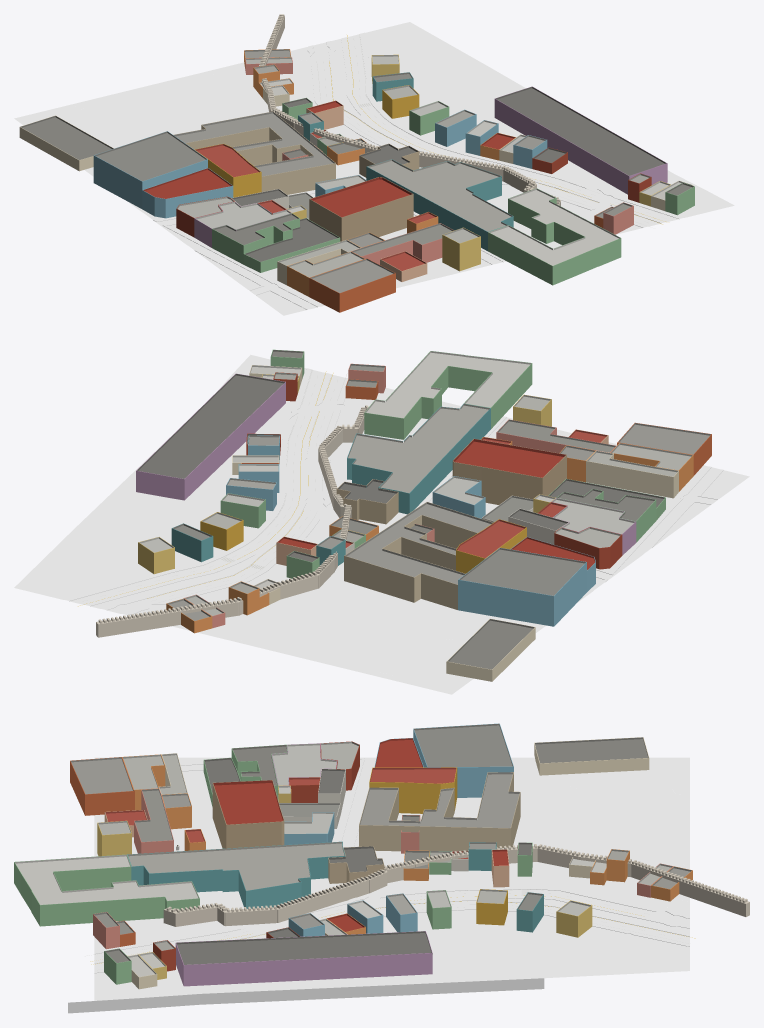
3 views of the same model, one above another, from view 1: azimuth 30°, elevation 25°; view 2: azimuth 150°, elevation 25°; view 3: azimuth 270°, elevation 25° (orthographic). The views are drawn at different scales.
Visible parts, largest first — view 1: roofs, walls, plaza, asphalt, sidewalk, stone, pavers; view 2: roofs, walls, plaza, asphalt, sidewalk, stone, pavers, markings; view 3: roofs, walls, plaza, asphalt, stone, coast, sidewalk, pavers, concrete.
Part boxes in pixels (x1,y1,x2,y2): roofs: [20, 49, 694, 293]; walls: [19, 51, 694, 312]; plaza: [14, 22, 734, 315]; asphalt: [24, 30, 711, 264]; sidewalk: [142, 32, 683, 309]; stone: [259, 14, 560, 206]; pavers: [54, 62, 350, 309]; roofs: [136, 349, 711, 669]; walls: [136, 352, 711, 681]; plaza: [14, 354, 749, 694]; asphalt: [33, 363, 512, 687]; sidewalk: [64, 368, 723, 614]; stone: [96, 405, 368, 637]; pavers: [198, 467, 720, 682]; markings: [72, 371, 347, 606]; roofs: [14, 723, 692, 977]; walls: [14, 729, 692, 989]; plaza: [94, 757, 689, 1000]; asphalt: [94, 757, 689, 994]; stone: [163, 844, 749, 926]; coast: [68, 978, 544, 1013]; sidewalk: [94, 758, 689, 973]; pavers: [180, 757, 689, 867]; concrete: [177, 771, 689, 911].
Size of what is drawn, in the model's own units: 252 by 21.2 by 309.
